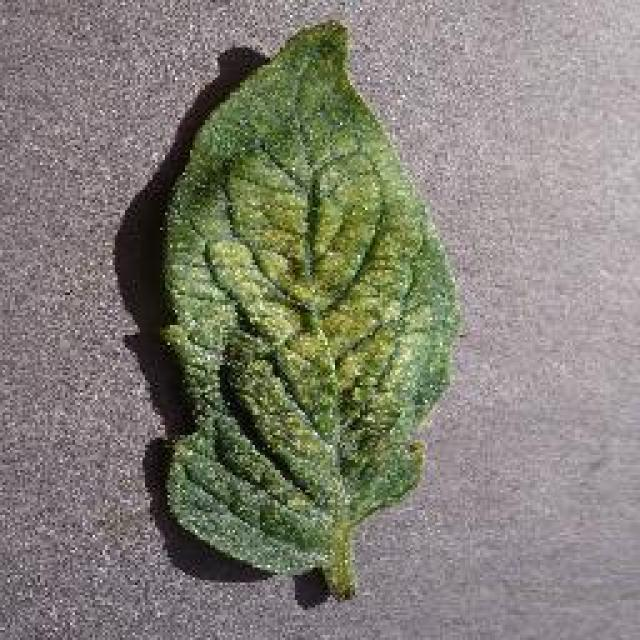Tomato___Spider_mites Two-spotted_spider_mite: (162, 20, 458, 598)
